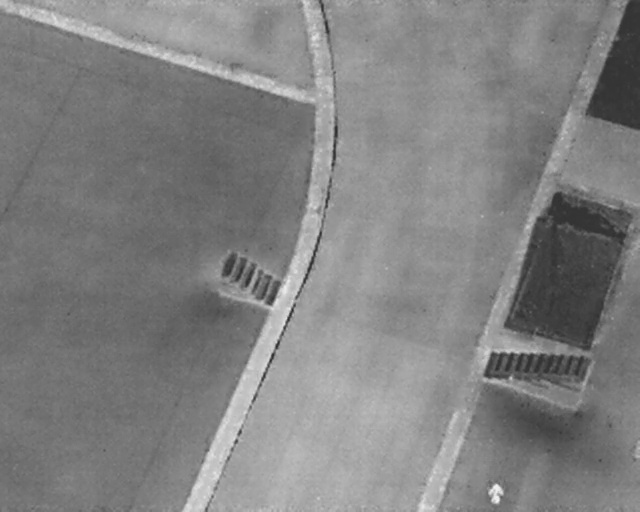Person: (486, 480, 505, 507)
